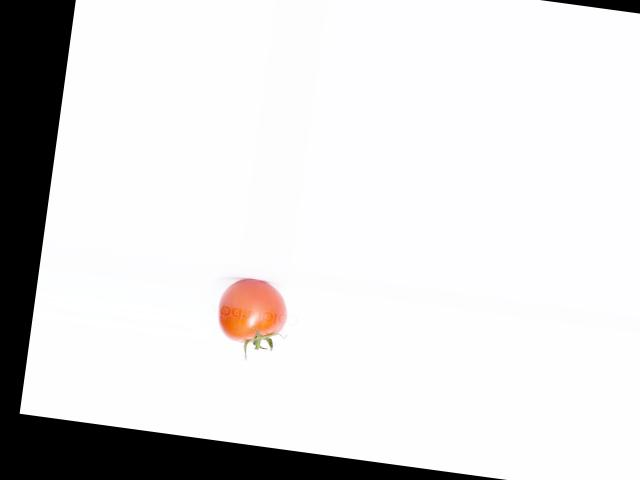tomato: (213, 275, 290, 347)
